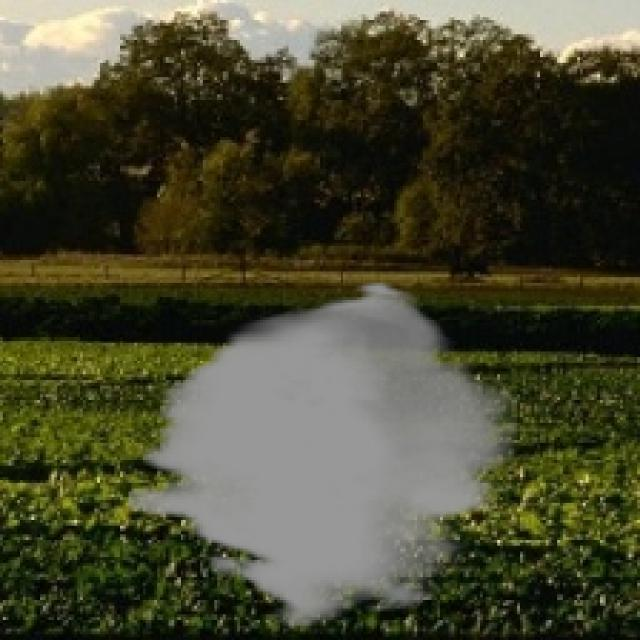Smoke: (128, 280, 518, 629)
